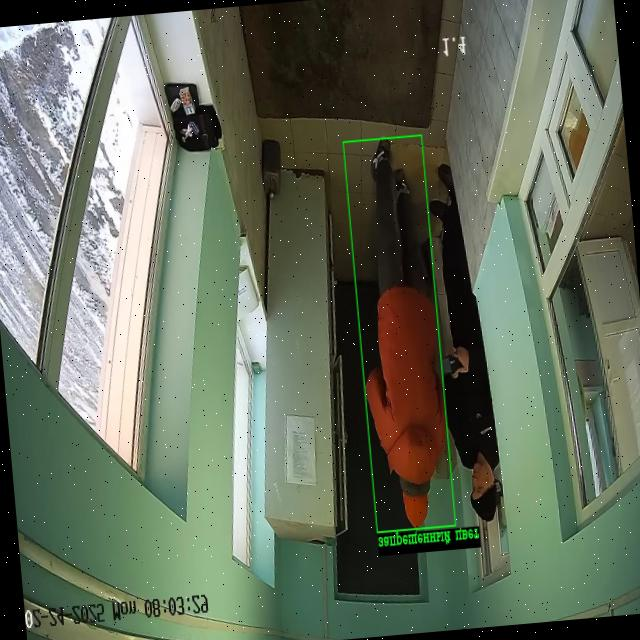Person: (430, 164, 499, 521)
Red uniform: (365, 140, 445, 527)
